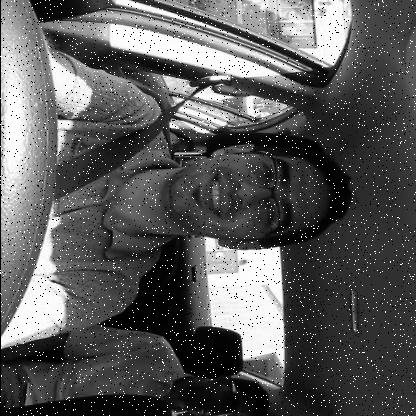seatbelt: (43, 68, 352, 260)
